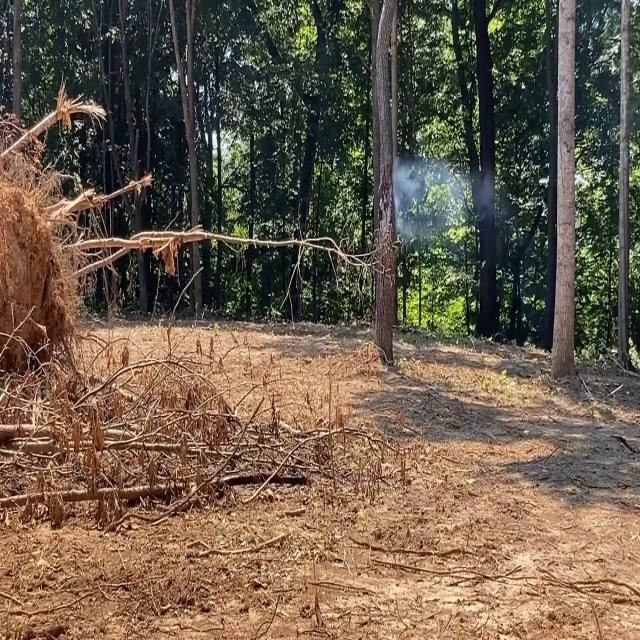Smoke: (388, 147, 498, 241)
